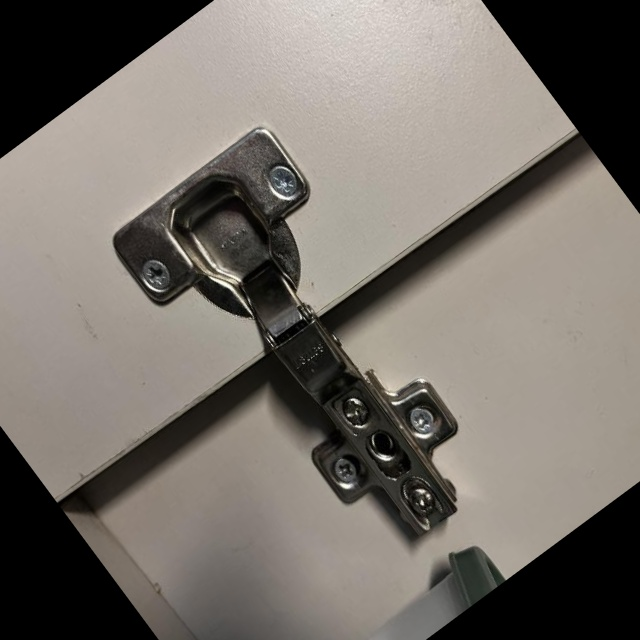pozidriv: (263, 159, 304, 202), (138, 255, 176, 295), (405, 403, 439, 438), (330, 454, 361, 486)
